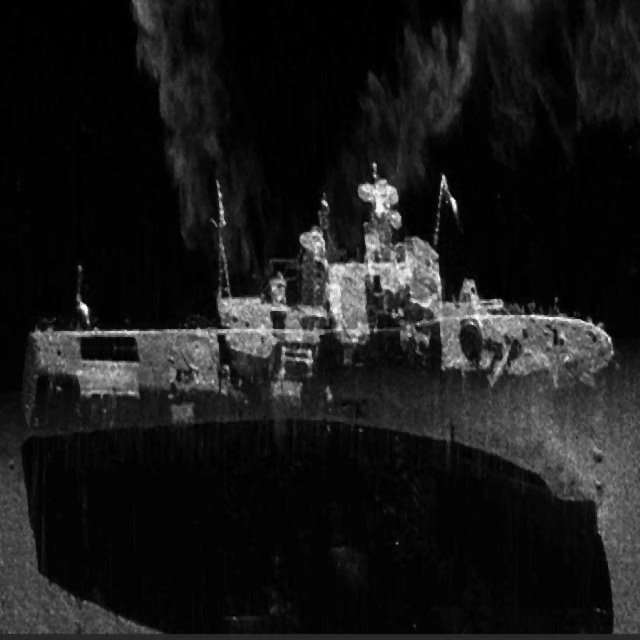Ship: (14, 130, 623, 538)
